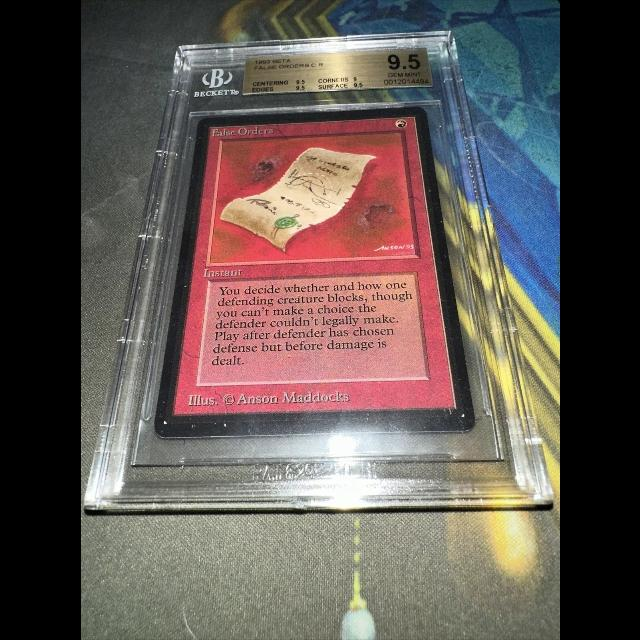bgs_label: (241, 48, 432, 95)
bgs_slab: (80, 29, 554, 509)
card: (149, 106, 478, 440)
